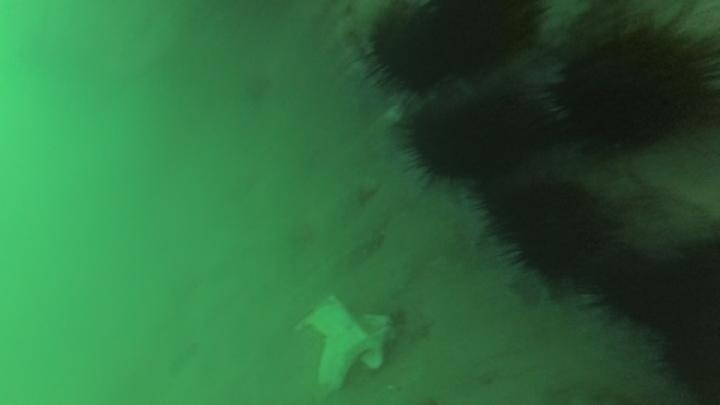echinus: (549, 19, 717, 156), (400, 84, 551, 187), (487, 173, 619, 288), (654, 232, 720, 401), (419, 1, 543, 87), (364, 7, 462, 97), (590, 252, 690, 332), (654, 314, 720, 404)
